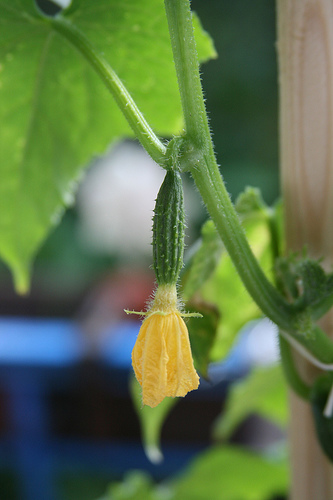cucumber: (151, 167, 185, 282)
